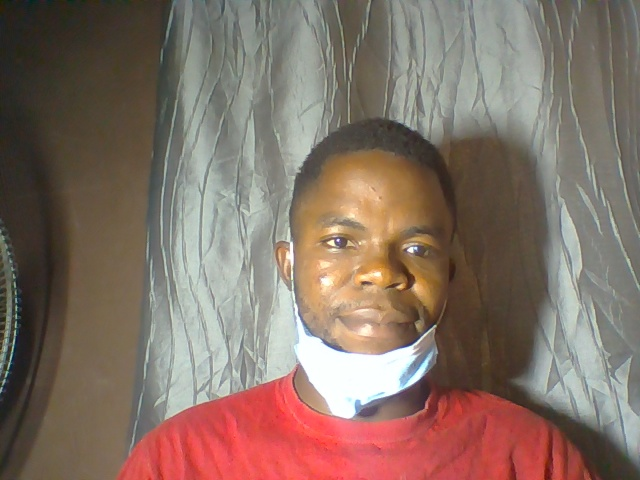MaskOff: (267, 113, 467, 419)
